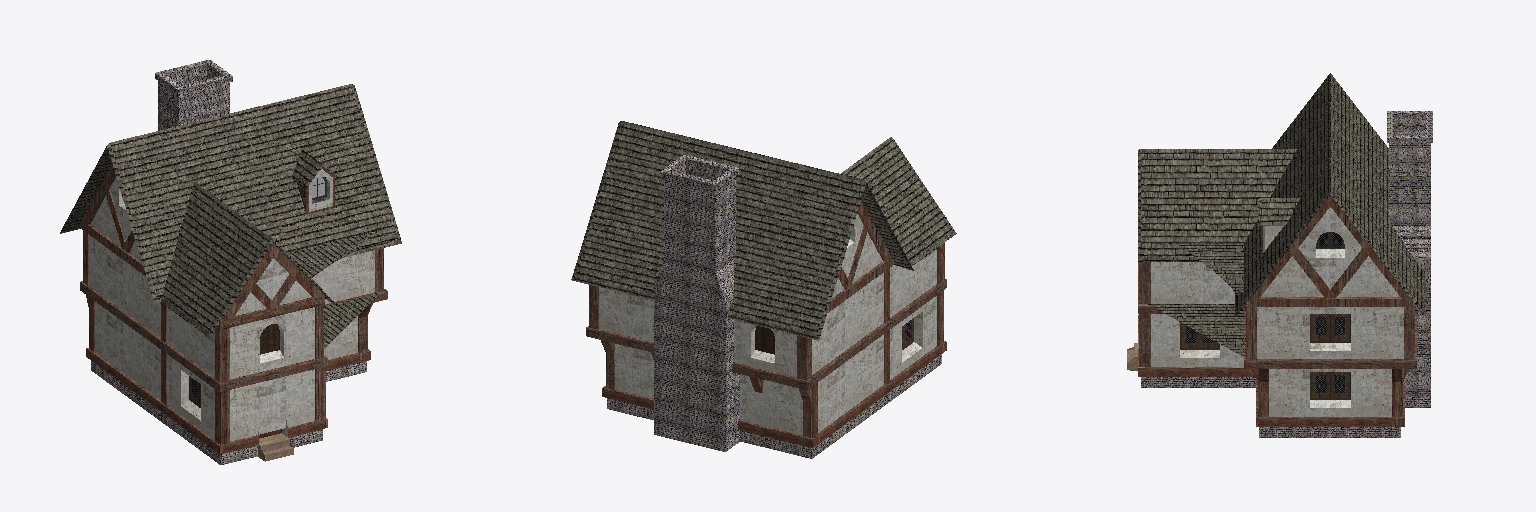
The picture shows the model from 3 angles: view 1: azimuth 30°, elevation 25°; view 2: azimuth 150°, elevation 25°; view 3: azimuth 270°, elevation 25°; orthographic projection.
Visible parts, largest first — view 1: Mesh14 Group1 Model, Mesh4 Group5 Group1 Model, Mesh2 Group3 Group1 Model, Mesh8 Group8 Group1 Model, Mesh7 Group9 Group8 Group1 Model; view 2: Mesh4 Group5 Group1 Model, Mesh14 Group1 Model, Mesh2 Group3 Group1 Model; view 3: Mesh14 Group1 Model, Mesh4 Group5 Group1 Model, Mesh2 Group3 Group1 Model, Mesh7 Group9 Group8 Group1 Model.
Part boxes in pixels (x1,y1,x2,y2): Mesh14 Group1 Model: (80, 164, 387, 464); Mesh4 Group5 Group1 Model: (60, 84, 401, 337); Mesh2 Group3 Group1 Model: (155, 60, 232, 130); Mesh8 Group8 Group1 Model: (297, 167, 334, 214); Mesh7 Group9 Group8 Group1 Model: (292, 150, 340, 188); Mesh4 Group5 Group1 Model: (571, 121, 956, 340); Mesh14 Group1 Model: (586, 201, 946, 458); Mesh2 Group3 Group1 Model: (654, 155, 739, 451); Mesh14 Group1 Model: (1127, 195, 1416, 437); Mesh4 Group5 Group1 Model: (1138, 73, 1425, 316); Mesh2 Group3 Group1 Model: (1387, 111, 1432, 407); Mesh7 Group9 Group8 Group1 Model: (1258, 198, 1299, 225).
Size of the model in its own units: 12.09 by 12.41 by 12.94.
11 materials, 11 textured.